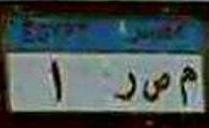1: (48, 62, 65, 103)
meem: (177, 65, 200, 108)
raa: (115, 72, 139, 102)
saad: (140, 69, 174, 105)
